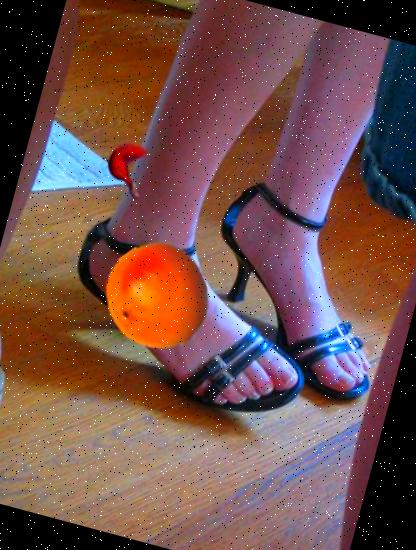Banana: (97, 137, 161, 201)
Grapefruit: (93, 231, 224, 362)
